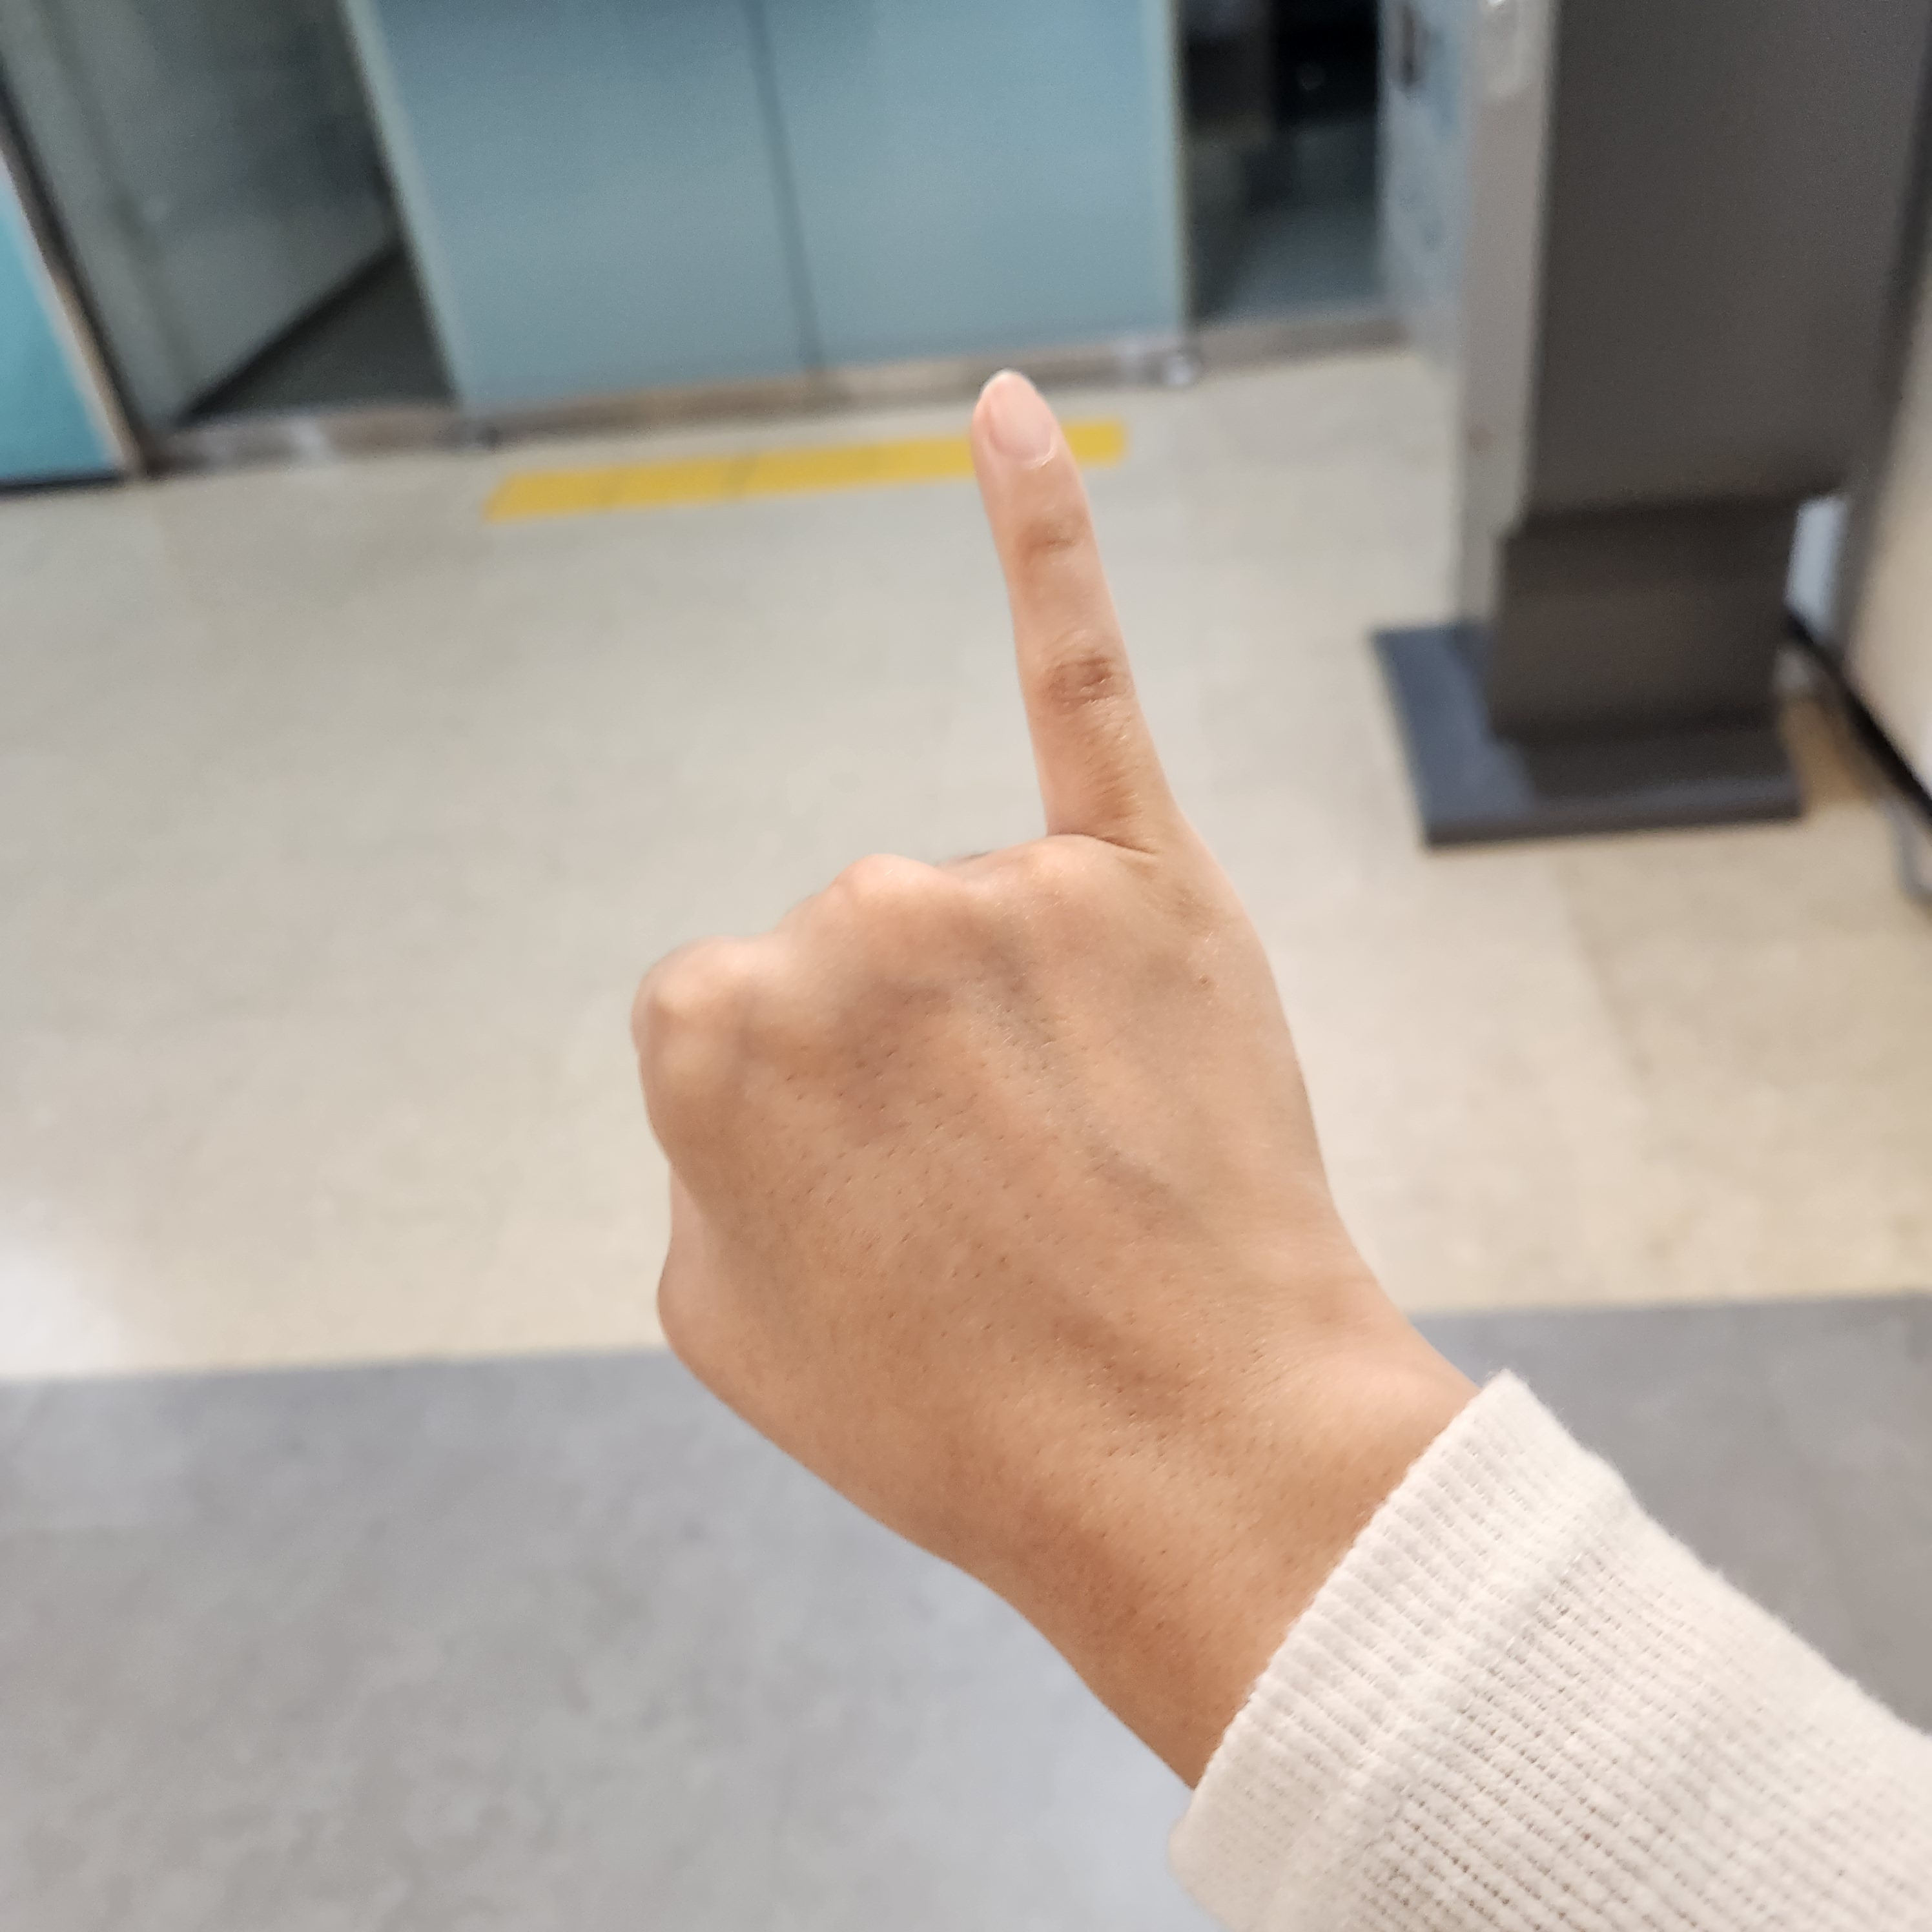fine: (626, 366, 1327, 1587)
